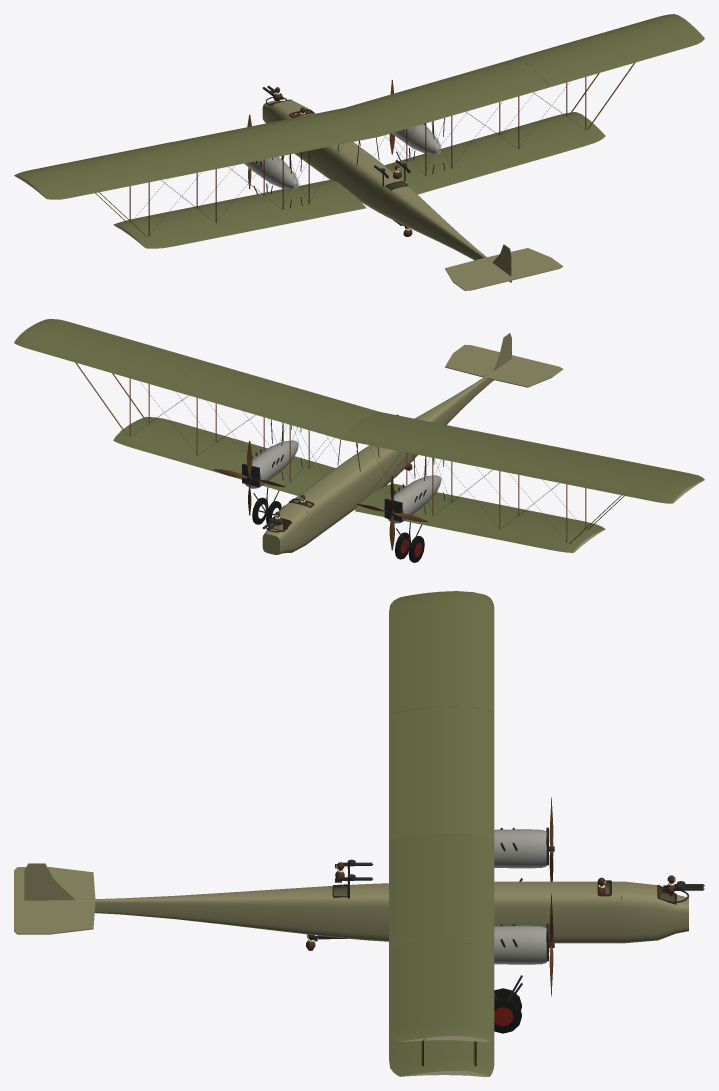
File: handley_page_o400.glb
The picture shows the model from 3 angles, top to bottom: view 1: azimuth 30°, elevation 25°; view 2: azimuth 150°, elevation 25°; view 3: azimuth 270°, elevation 25°; orthographic projection. The views are drawn at different scales.
Parts seen in each view (by area): view 1: Wing_Upper_R, Wing_Upper_L, Wing_Lower_L, Wing_Lower_R, Fuselage, Aileron_R, Aileron_L, Struts, Elevator, Engine_L, Engine_R, Stabilizer_L (+2 smaller); view 2: Wing_Upper_R, Wing_Upper_L, Fuselage, Wing_Lower_L, Wing_Lower_R, Struts, Engine_L, Engine_R, Aileron_R, Wheels, Elevator, Aileron_L (+5 smaller); view 3: Wing_Upper_L, Fuselage, Wing_Upper_R, Wing_Lower_R, Aileron_L, Aileron_R, Engine_L, Engine_R, Stabilizer_R, Elevator, Wheels, Stabilizer_L (+1 smaller).
Part boxes in pixels (left/top/right/bottom): Wing_Upper_R: left=345, top=14, right=696, bottom=136; Wing_Upper_L: left=14, top=108, right=379, bottom=191; Wing_Lower_L: left=113, top=179, right=366, bottom=248; Wing_Lower_R: left=384, top=112, right=605, bottom=194; Fuselage: left=262, top=100, right=502, bottom=270; Aileron_R: left=541, top=29, right=704, bottom=86; Aileron_L: left=38, top=160, right=207, bottom=199; Struts: left=95, top=62, right=635, bottom=237; Elevator: left=454, top=259, right=563, bottom=290; Engine_L: left=244, top=152, right=302, bottom=208; Engine_R: left=392, top=118, right=444, bottom=173; Stabilizer_L: left=445, top=258, right=502, bottom=283; Wing_Upper_R: left=14, top=322, right=379, bottom=439; Wing_Upper_L: left=342, top=412, right=696, bottom=503; Fuselage: left=262, top=364, right=503, bottom=554; Wing_Lower_L: left=355, top=483, right=605, bottom=552; Wing_Lower_R: left=113, top=417, right=335, bottom=495; Struts: left=75, top=362, right=624, bottom=543; Engine_L: left=384, top=454, right=444, bottom=523; Engine_R: left=241, top=419, right=302, bottom=488; Aileron_R: left=38, top=319, right=207, bottom=365; Wheels: left=252, top=497, right=424, bottom=562; Elevator: left=455, top=344, right=563, bottom=376; Aileron_L: left=541, top=446, right=704, bottom=484; Wing_Upper_L: left=389, top=591, right=494, bottom=840; Fuselage: left=49, top=881, right=688, bottom=943; Wing_Upper_R: left=389, top=833, right=494, bottom=1042; Wing_Lower_R: left=389, top=1031, right=494, bottom=1076; Aileron_L: left=389, top=593, right=422, bottom=713; Aileron_R: left=389, top=940, right=423, bottom=1041; Engine_L: left=494, top=827, right=548, bottom=868; Engine_R: left=494, top=924, right=548, bottom=964; Stabilizer_R: left=45, top=900, right=95, bottom=934; Elevator: left=14, top=867, right=45, bottom=934; Wheels: left=494, top=988, right=521, bottom=1033; Stabilizer_L: left=47, top=867, right=95, bottom=899.
Size of the model in its own units: 30.48 by 5.34 by 20.01.
